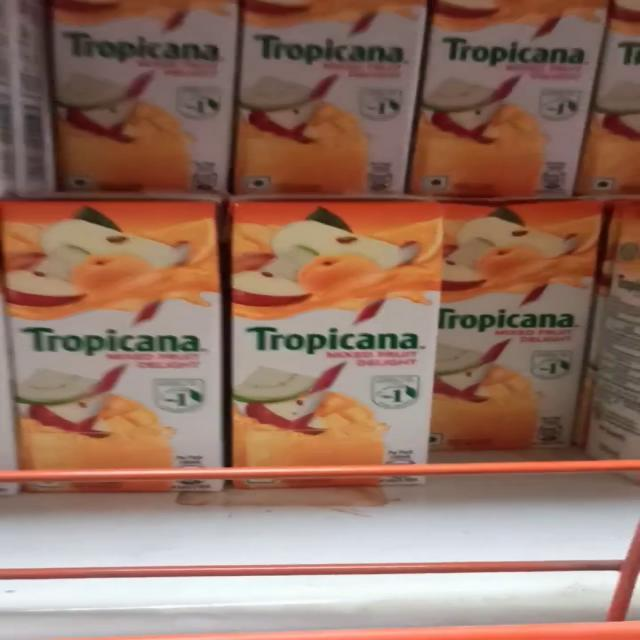Tropicana: (4, 206, 229, 504), (225, 212, 442, 494), (237, 0, 430, 200), (45, 2, 223, 200), (426, 0, 603, 197)
